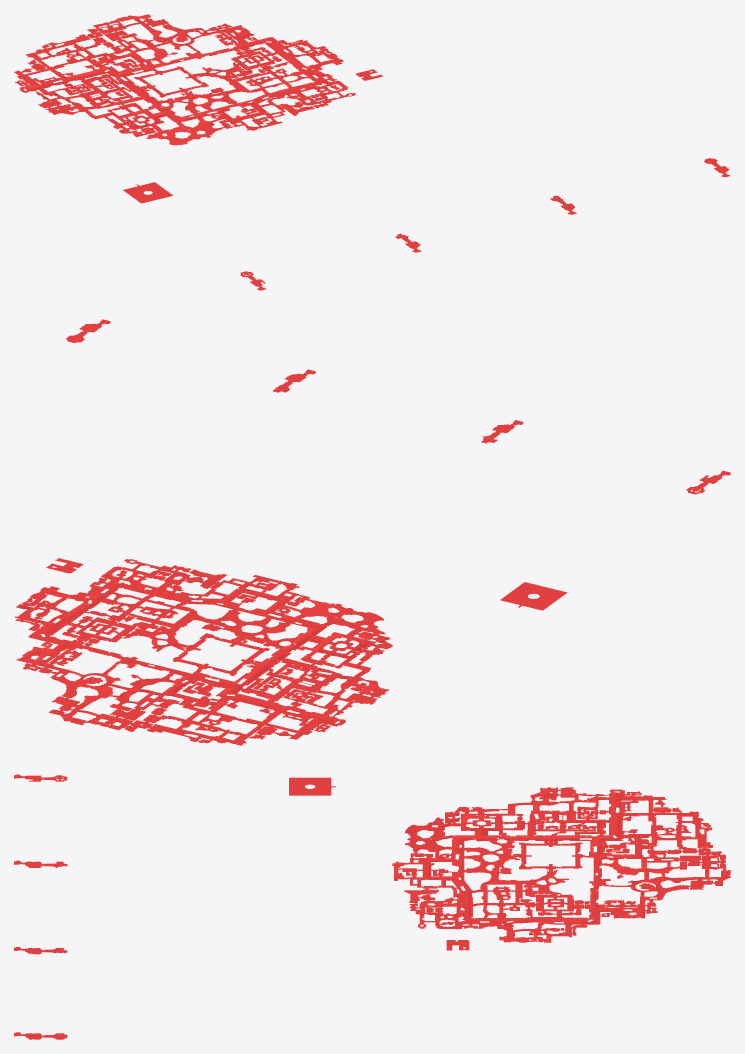
Rendered from Bg_NaviMesh.fbx.
3 renders of one model, top to bottom at view 1: azimuth 30°, elevation 25°; view 2: azimuth 150°, elevation 25°; view 3: azimuth 270°, elevation 25°, orthographic. The views are drawn at different scales.
Visible parts, largest first — view 1: School, Uptown, Factory, Hotel, Cemetery, FireStation, Temple, Forest, Sandy_Beach, Church, PoliceStation, Hospital (+9 smaller); view 2: School, Uptown, Factory, Hotel, Cemetery, FireStation, Forest, Temple, Church, Sandy_Beach, PoliceStation, Hospital (+9 smaller); view 3: School, Uptown, Factory, Cemetery, Hotel, FireStation, Forest, Temple, Church, Sandy_Beach, PoliceStation, Hospital (+9 smaller).
Part boxes in pixels (x1,y1,x2,y2): School: (57,74,153,108); Uptown: (202,93,285,130); Factory: (259,37,343,74); Hotel: (87,103,165,136); Cemetery: (192,47,281,80); FireStation: (80,54,158,80); Temple: (62,14,168,45); Forest: (144,87,236,119); Sandy_Beach: (146,112,223,145); Church: (227,61,308,93); PoliceStation: (55,37,142,63); Hospital: (198,23,262,51); School: (238,654,341,707); Uptown: (181,575,309,620); Factory: (14,586,105,641); Hotel: (298,631,393,674); Cemetery: (62,616,188,651); FireStation: (168,668,265,711); Forest: (199,609,320,656); Temple: (49,696,189,735); Church: (85,592,203,629); Sandy_Beach: (281,599,385,634); PoliceStation: (134,689,238,731); Hospital: (16,636,96,676); School: (525,804,608,843); Uptown: (392,852,472,893); Factory: (496,917,600,942); Cemetery: (522,869,589,916); Hotel: (445,802,524,835); FireStation: (583,823,649,860); Forest: (465,835,524,878); Temple: (679,834,730,889); Church: (472,878,535,917); Sandy_Beach: (405,817,465,852); PoliceStation: (631,824,697,862); Hospital: (589,895,657,918).
Size of the model in its own units: 55808 by 415 by 63770.
